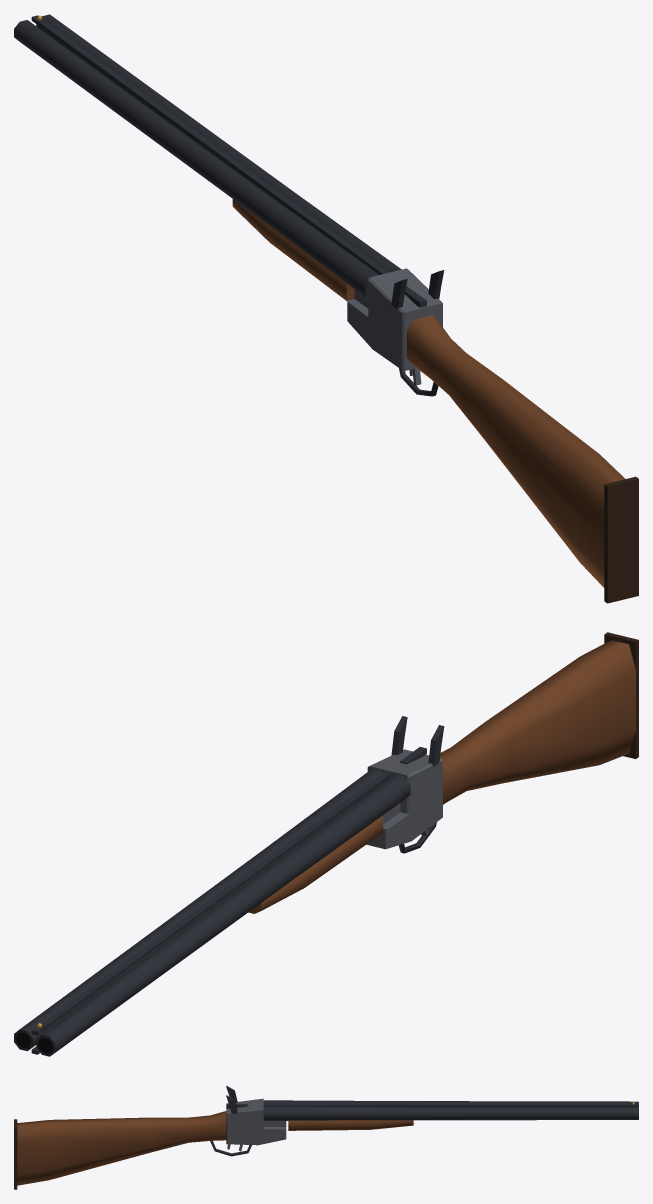
The model's file is shotgun.glb.
3 views of the same model, one above another, from view 1: azimuth 30°, elevation 25°; view 2: azimuth 150°, elevation 25°; view 3: azimuth 270°, elevation 25° (orthographic). The views are drawn at different scales.
Parts seen in each view (by area): view 1: Body, Barrel; view 2: Body, Barrel; view 3: Body, Barrel.
Boxes of the visible parts, left/top/right/bottom form: Body: left=347, top=268, right=638, bottom=603; Barrel: left=14, top=14, right=401, bottom=308; Body: left=367, top=632, right=638, bottom=853; Barrel: left=14, top=769, right=410, bottom=1056; Body: left=14, top=1085, right=286, bottom=1189; Barrel: left=263, top=1100, right=638, bottom=1130.
Size of the model in its own units: 0.0515 by 0.195 by 1.17.
